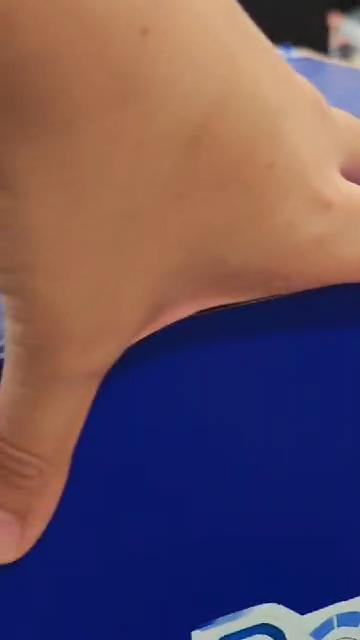B_R1: (70, 537, 360, 640)
